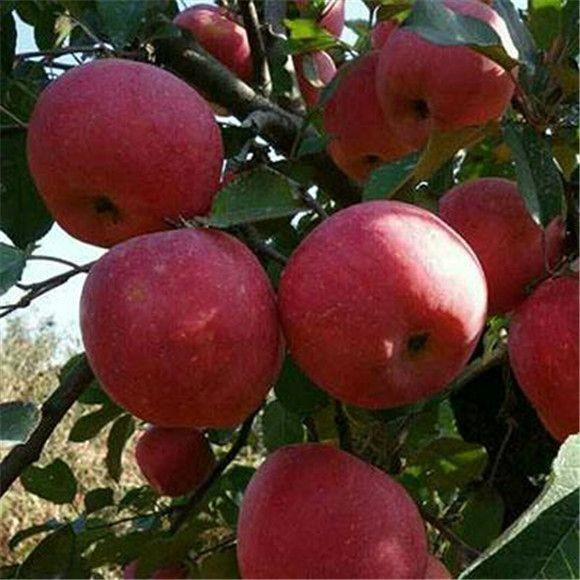apple: (281, 203, 488, 411), (76, 229, 279, 432), (24, 58, 225, 250), (229, 444, 441, 580), (375, 1, 520, 147), (321, 52, 417, 183), (509, 276, 580, 441), (132, 423, 213, 501)
